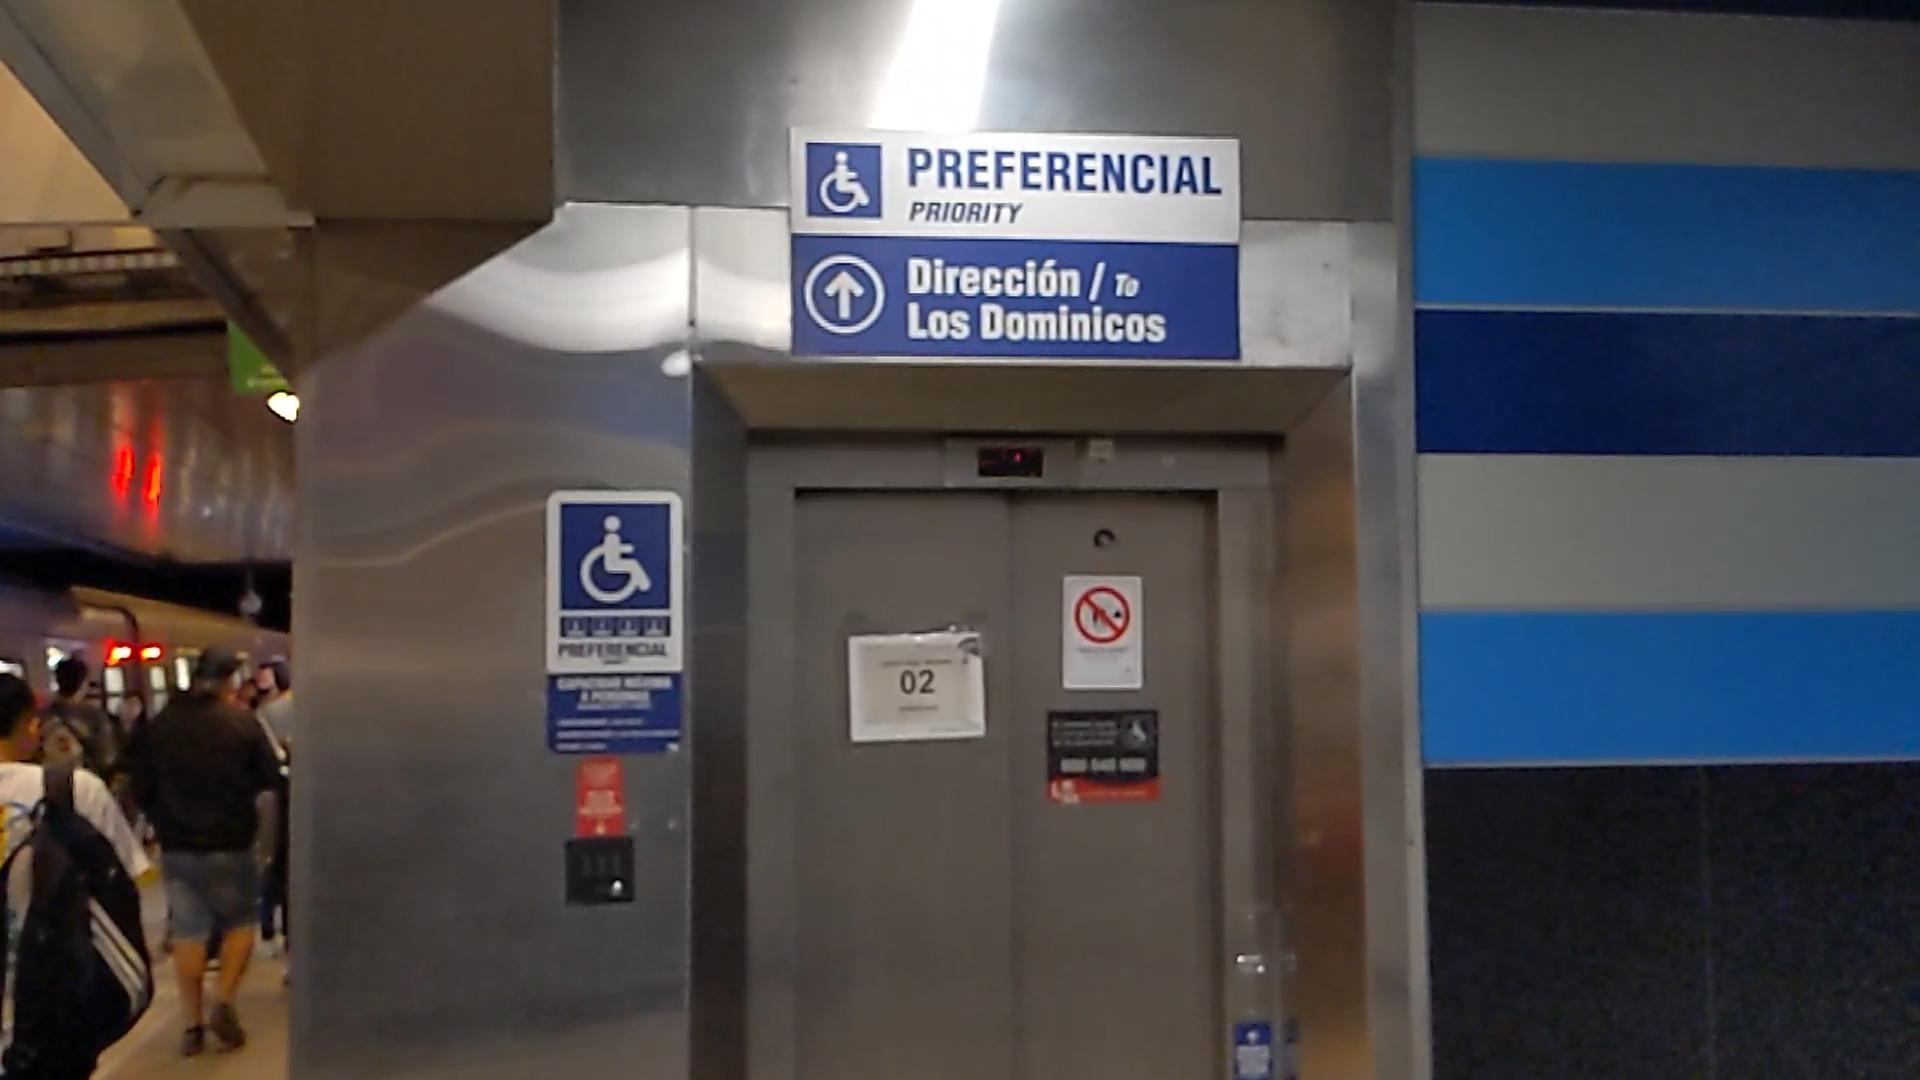handicapped symbol: (579, 516, 653, 604), (819, 149, 870, 214), (1124, 717, 1150, 746)
up arrow: (822, 270, 866, 320)
